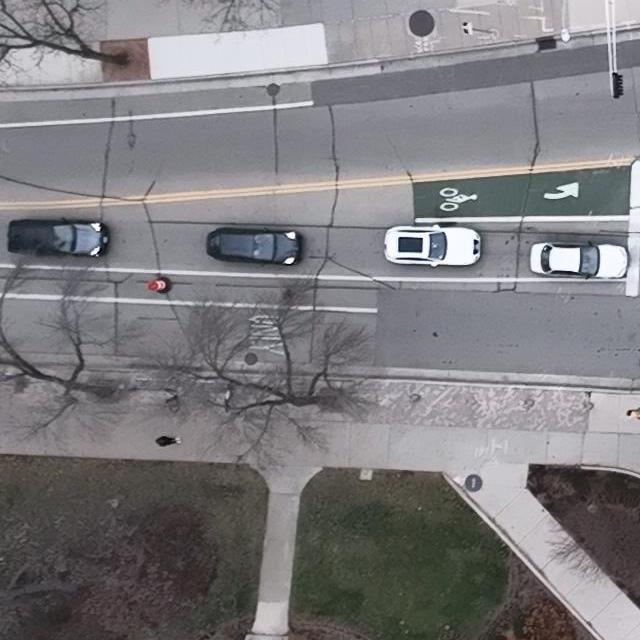car: (383, 223, 481, 268), (7, 217, 109, 259), (529, 239, 629, 281), (205, 227, 304, 266)
